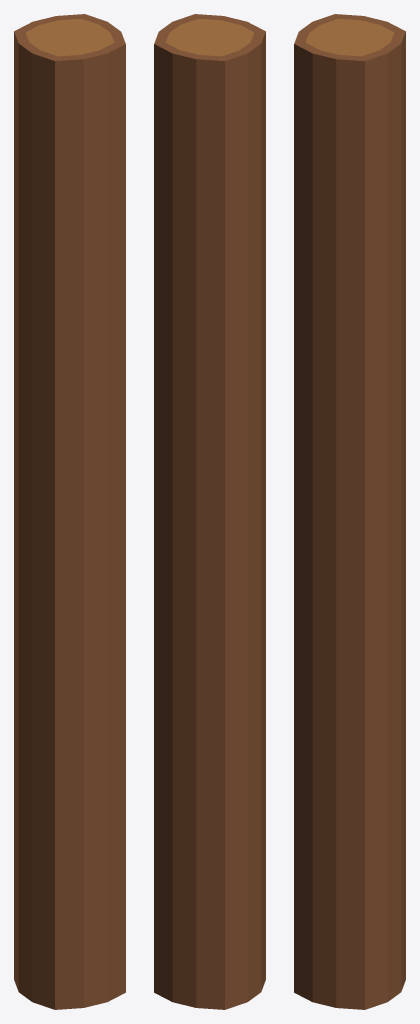
Rendered from Log.fbx.
3 views of the same model, side by side, from view 1: azimuth 30°, elevation 25°; view 2: azimuth 150°, elevation 25°; view 3: azimuth 330°, elevation 25° (orthographic).
Visible parts, largest first — view 1: Cube; view 2: Cube; view 3: Cube.
Part boxes in pixels (bbox=[...]): Cube: bbox=[14, 14, 125, 1009]; Cube: bbox=[154, 14, 265, 1009]; Cube: bbox=[294, 14, 405, 1009].
Size of the model in its own units: 251 by 2561 by 250.
